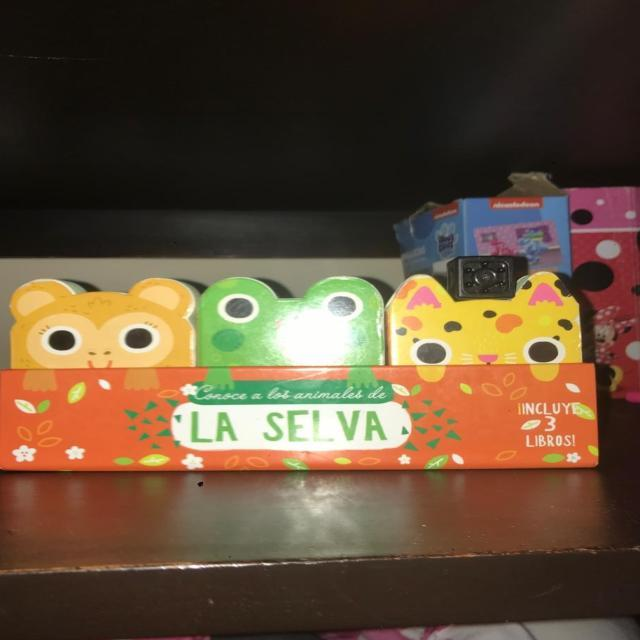hidden camera: (475, 269, 498, 285)
